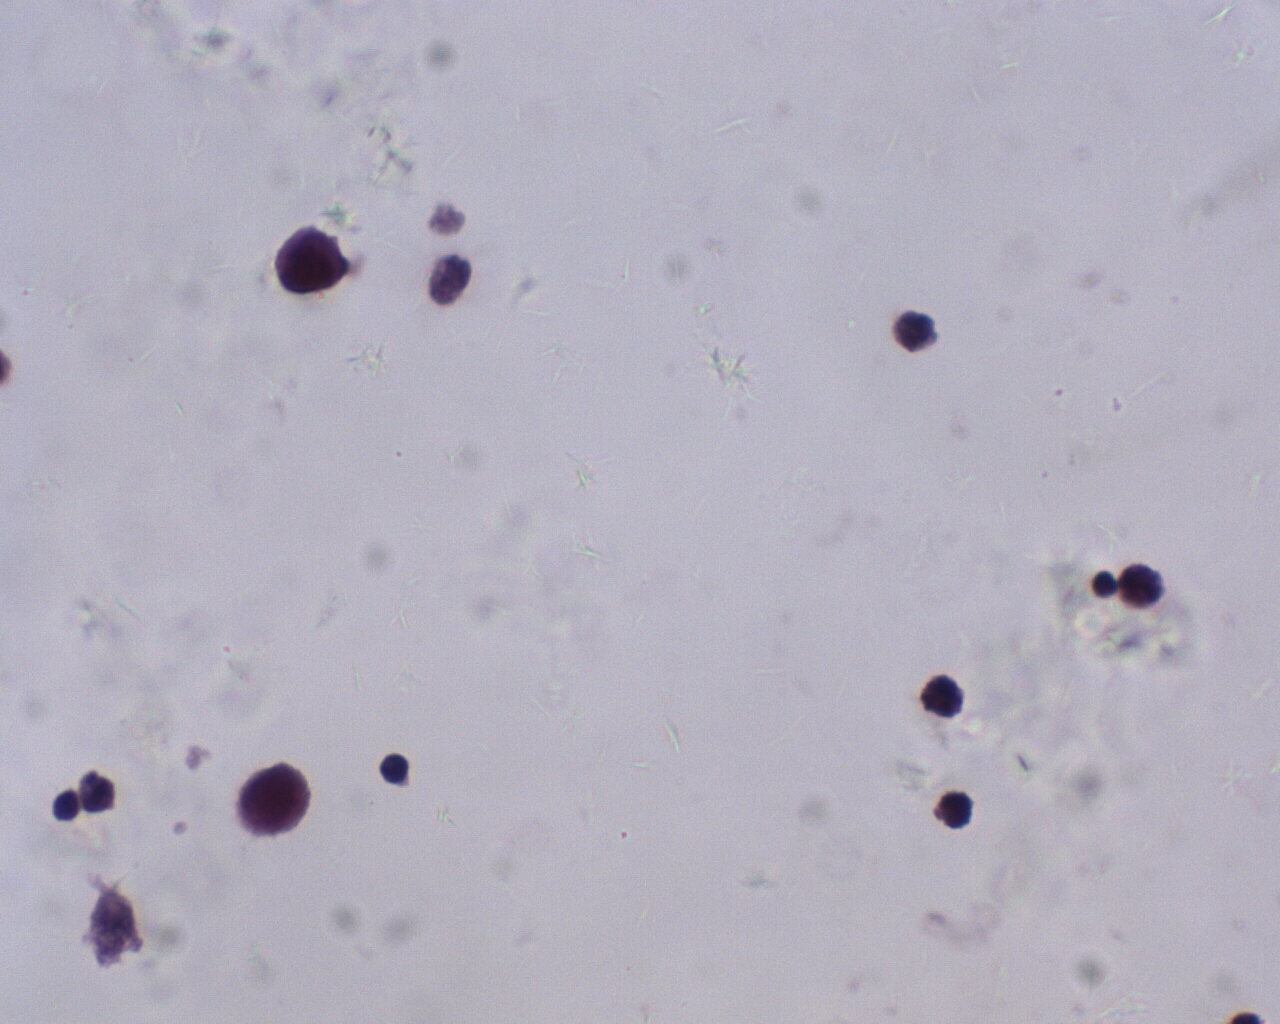ab: (239, 761, 311, 838), (271, 227, 348, 297)
lymph: (374, 752, 412, 785)
